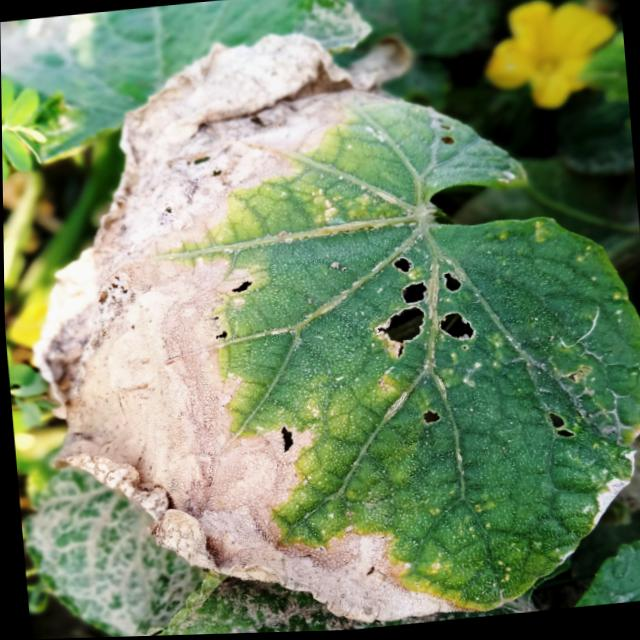Gummy-Stem-Blight: (27, 33, 479, 620)
